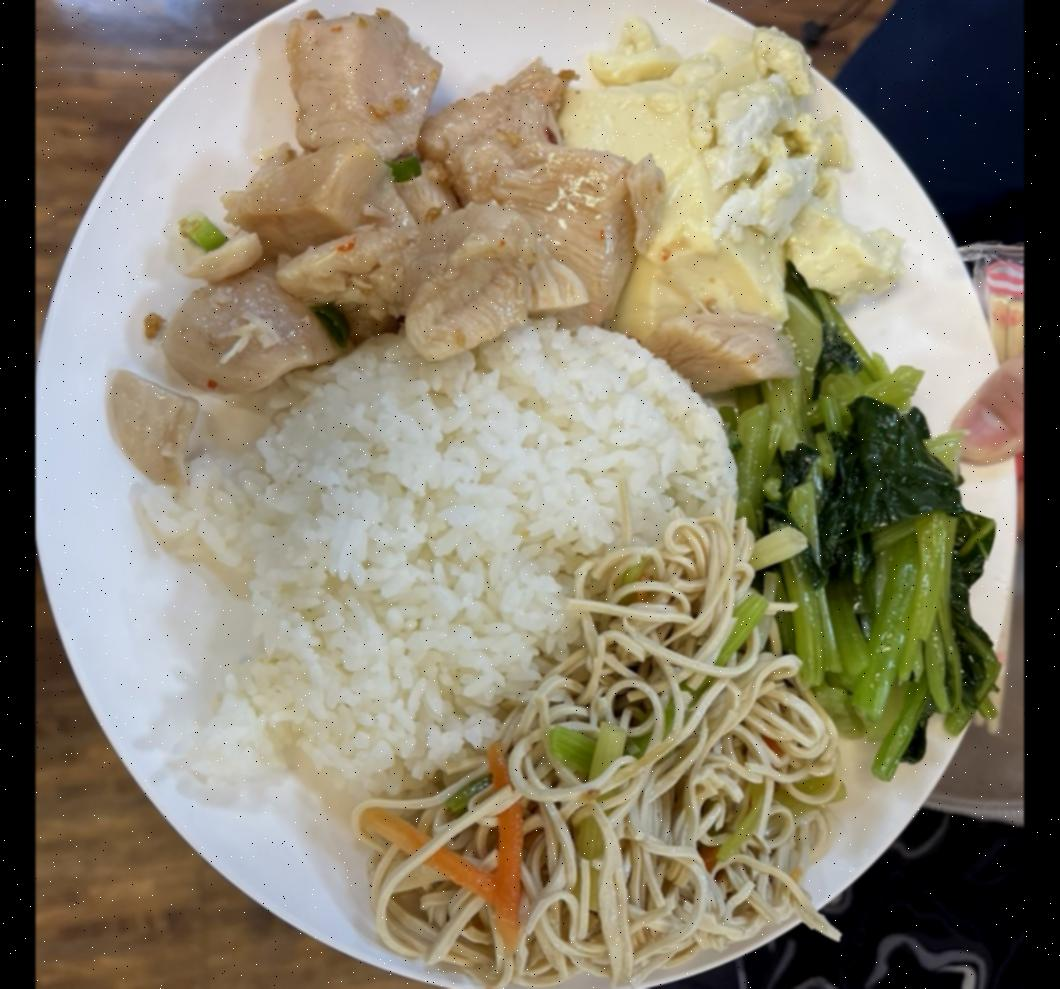big fried chicken leg: (35, 0, 1022, 989)
big herbal chicken leg: (242, 316, 745, 822)
braised fish fillet: (368, 524, 842, 986), (554, 25, 920, 374), (733, 306, 996, 769)
braised pork: (107, 10, 662, 474)
